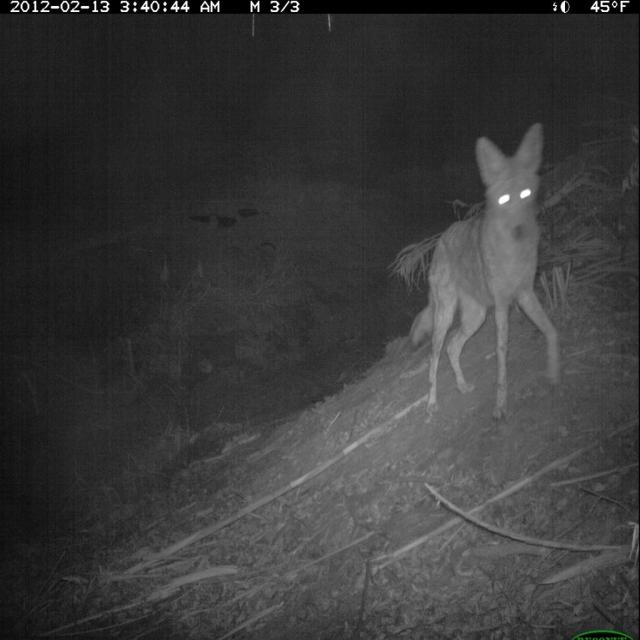coyote: (405, 115, 573, 434)
